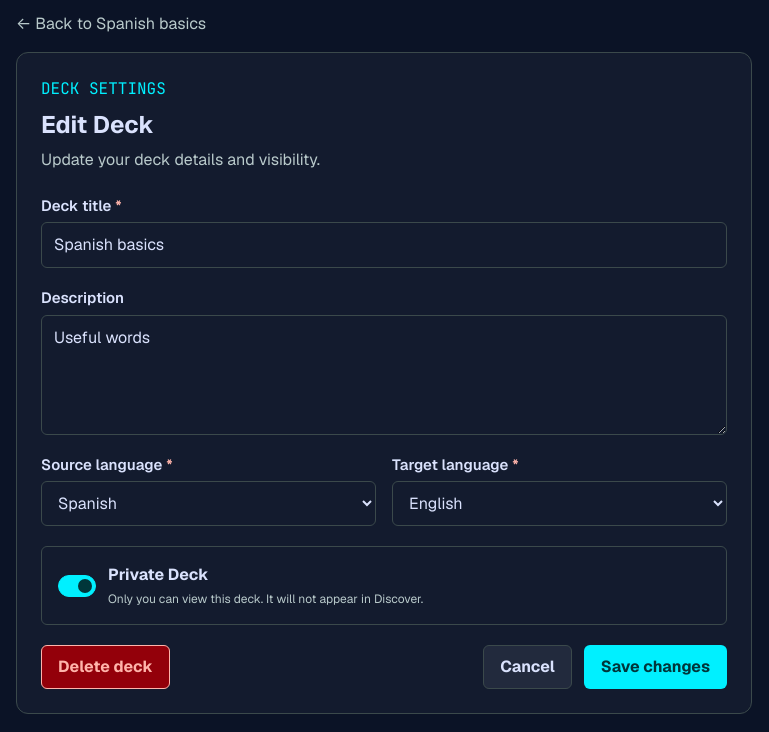
Test: EditDeckPage › blocks invalid input before sending an update
Clear the field labelled "Deck title". click: (384, 245)
box: 41,222 -> 727,268
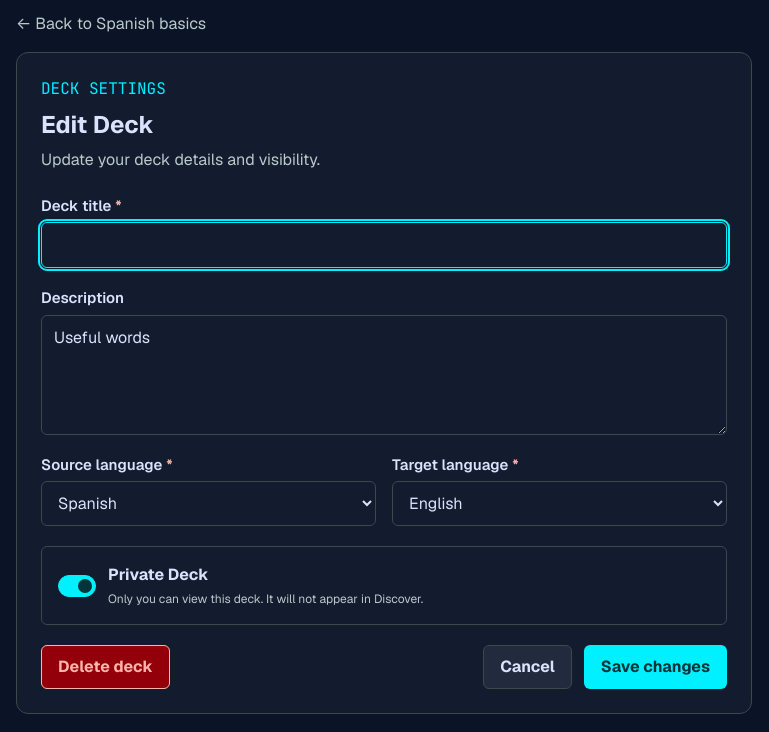
Click the button "Save changes". click: (655, 667)
box: 584,645 -> 727,689
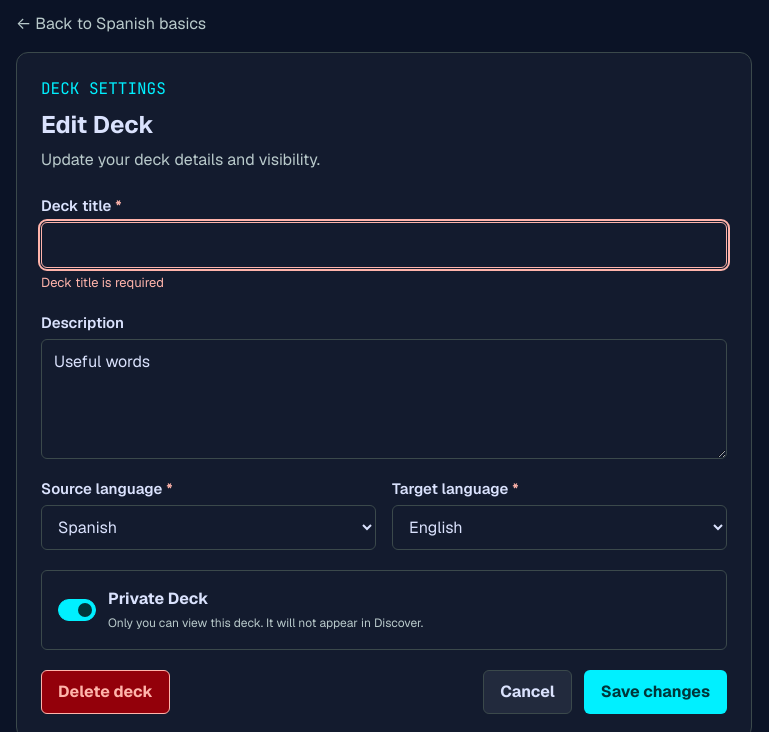
Check: the text "Deck title is required" is shown, box 41,274 -> 164,291
